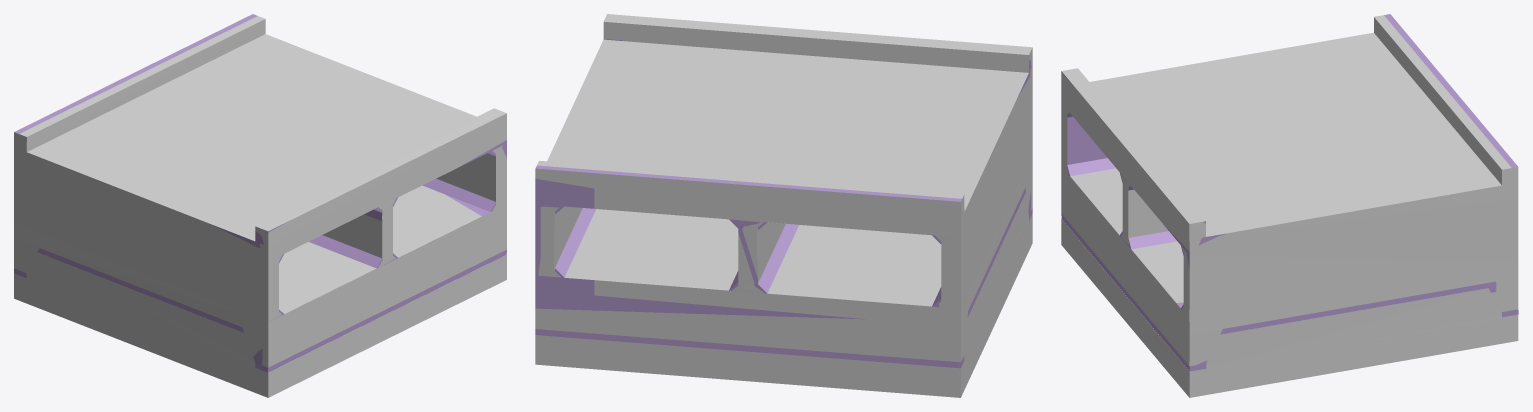
File: 500125-CSSP001-780-XX-MD-ST-000217.glb
3 renders of one model, left to right at view 1: azimuth 30°, elevation 25°; view 2: azimuth 150°, elevation 25°; view 3: azimuth 270°, elevation 25°, orthographic. The views are drawn at different scales.
Parts seen in each view (by area): view 1: 500125-CSSP001-780-XX-MD-ST-000217#OTR001, 500125-CSSP001-780-XX-MD-ST-000217#BOX001; view 2: 500125-CSSP001-780-XX-MD-ST-000217#OTR001, 500125-CSSP001-780-XX-MD-ST-000217#BOX001; view 3: 500125-CSSP001-780-XX-MD-ST-000217#OTR001, 500125-CSSP001-780-XX-MD-ST-000217#BOX001.
Part boxes in pixels (bbox=[...]): 500125-CSSP001-780-XX-MD-ST-000217#OTR001: bbox=[14, 16, 506, 397]; 500125-CSSP001-780-XX-MD-ST-000217#BOX001: bbox=[14, 14, 506, 372]; 500125-CSSP001-780-XX-MD-ST-000217#OTR001: bbox=[535, 14, 1032, 397]; 500125-CSSP001-780-XX-MD-ST-000217#BOX001: bbox=[535, 39, 1032, 368]; 500125-CSSP001-780-XX-MD-ST-000217#OTR001: bbox=[1061, 15, 1518, 397]; 500125-CSSP001-780-XX-MD-ST-000217#BOX001: bbox=[1061, 14, 1518, 371].
Size of the model in its own units: 8.23 by 3.45 by 7.86.
